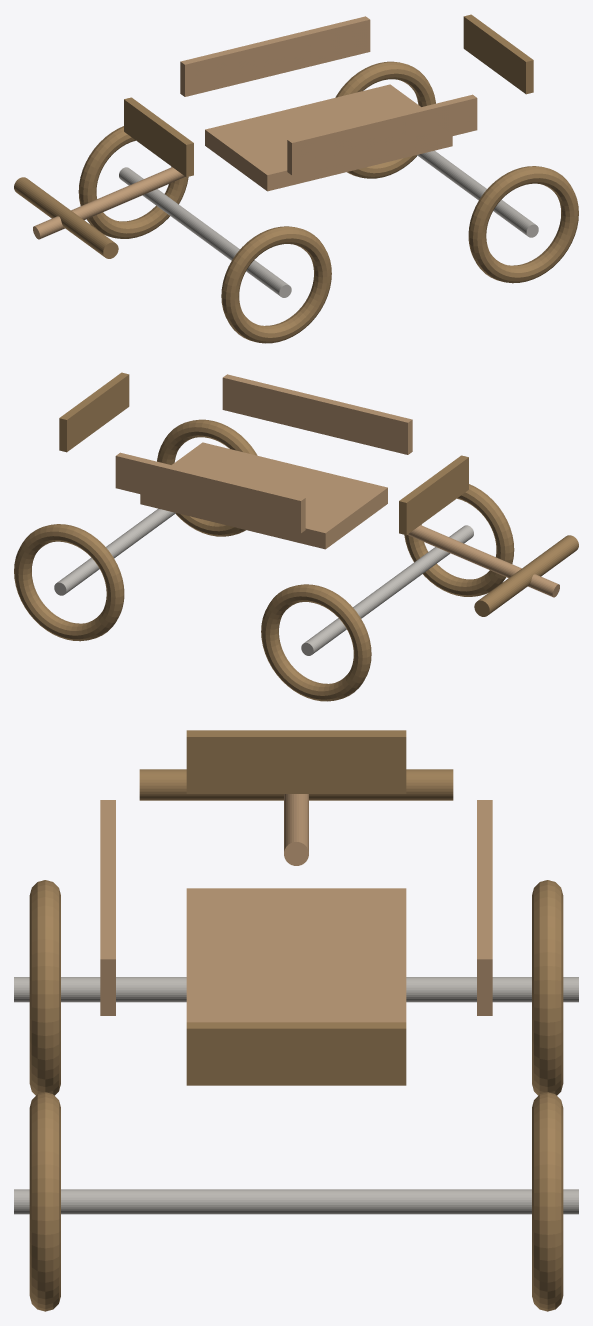
Rendered from wooden_cart.glb.
3 views of the same model, one above another, from view 1: azimuth 30°, elevation 25°; view 2: azimuth 150°, elevation 25°; view 3: azimuth 270°, elevation 25° (orthographic). The views are drawn at different scales.
Parts seen in each view (by area): view 1: Cube, Cube.001, Cube.002, Torus, Torus.002, Torus.001, Cube.004, Cube.003, Torus.003, Cylinder, Cylinder.002, Cylinder.003 (+1 smaller); view 2: Cube, Cube.001, Cube.002, Torus.001, Torus.003, Torus, Cube.004, Cube.003, Torus.002, Cylinder, Cylinder.002, Cylinder.003 (+1 smaller); view 3: Cube, Cube.003, Cube.004, Cylinder.001, Torus.002, Torus.003, Torus, Torus.001, Cylinder, Cylinder.002, Cube.001, Cube.002 (+1 smaller).
Part boxes in pixels (bbox=[...]): Cube: bbox=[205, 84, 452, 191]; Cube.001: bbox=[287, 94, 477, 175]; Cube.002: bbox=[180, 16, 370, 96]; Torus: bbox=[221, 226, 331, 343]; Torus.002: bbox=[468, 166, 578, 283]; Torus.001: bbox=[78, 126, 188, 238]; Cube.004: bbox=[463, 14, 533, 94]; Cube.003: bbox=[124, 97, 193, 177]; Torus.003: bbox=[335, 61, 435, 178]; Cylinder: bbox=[119, 167, 291, 297]; Cylinder.002: bbox=[14, 177, 118, 258]; Cylinder.003: bbox=[33, 167, 185, 239]; Cube: bbox=[140, 442, 387, 549]; Cube.001: bbox=[222, 374, 412, 454]; Cube.002: bbox=[115, 452, 305, 533]; Torus.001: bbox=[261, 584, 371, 701]; Torus.003: bbox=[14, 524, 124, 641]; Torus: bbox=[404, 484, 514, 596]; Cube.004: bbox=[59, 372, 129, 452]; Cube.003: bbox=[399, 455, 468, 535]; Torus.002: bbox=[157, 419, 257, 536]; Cylinder: bbox=[301, 525, 473, 655]; Cylinder.002: bbox=[474, 535, 578, 616]; Cylinder.003: bbox=[407, 525, 559, 597]; Cube: bbox=[186, 888, 406, 1022]; Cube.003: bbox=[186, 730, 406, 793]; Cube.004: bbox=[186, 1022, 406, 1085]; Cylinder.001: bbox=[14, 1189, 578, 1214]; Torus.002: bbox=[29, 1092, 60, 1311]; Torus.003: bbox=[532, 1092, 563, 1311]; Torus: bbox=[29, 880, 60, 1095]; Torus.001: bbox=[532, 880, 563, 1095]; Cylinder: bbox=[14, 977, 578, 1002]; Cylinder.002: bbox=[139, 769, 453, 800]; Cube.001: bbox=[100, 800, 115, 1015]; Cube.002: bbox=[477, 800, 492, 1015].
Bounding box in the file's own units: 1.52 × 0.555 × 0.9.
